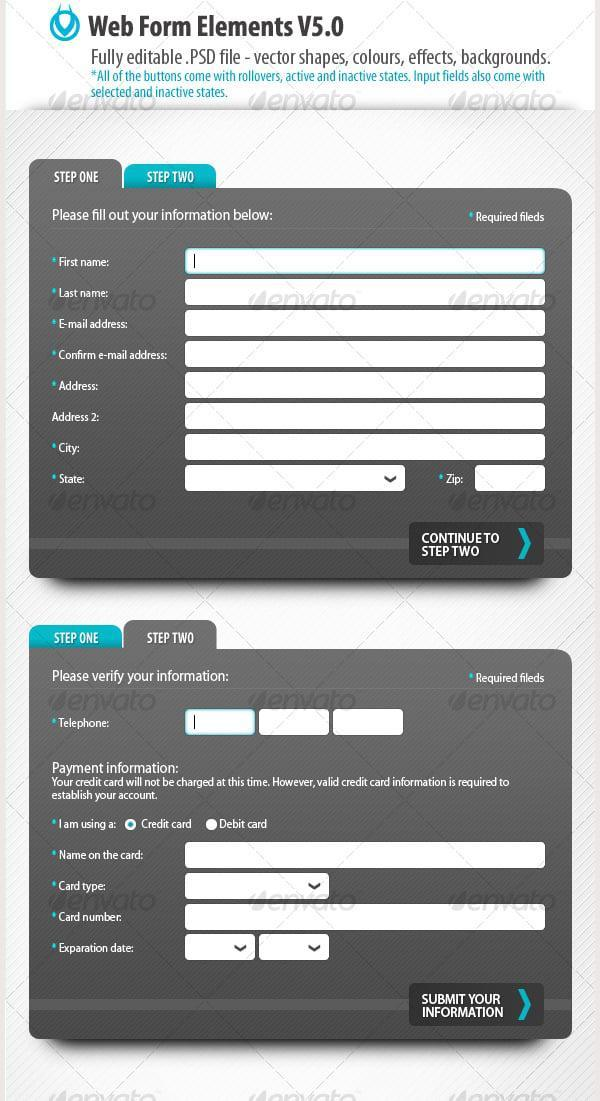button: (410, 525, 544, 569), (412, 985, 545, 1027), (33, 159, 123, 190), (125, 622, 218, 650), (126, 164, 217, 192), (31, 625, 123, 650)
dropdown: (185, 466, 405, 493), (186, 874, 329, 899), (260, 935, 332, 961), (187, 936, 257, 960)
input: (186, 248, 547, 278), (187, 309, 545, 337), (185, 843, 546, 870), (187, 434, 545, 461), (185, 373, 546, 399), (185, 905, 545, 931), (185, 281, 546, 306), (186, 404, 546, 429), (187, 343, 546, 367), (261, 708, 332, 737), (187, 708, 257, 736), (334, 709, 404, 737), (476, 464, 543, 493)
label: (47, 346, 177, 367), (52, 761, 184, 777), (45, 938, 144, 959), (51, 316, 135, 338), (48, 848, 150, 865), (48, 282, 115, 306), (47, 253, 116, 274), (47, 813, 123, 832), (45, 910, 128, 926), (43, 878, 114, 896), (50, 405, 104, 426), (47, 377, 105, 396), (50, 716, 114, 733), (48, 466, 90, 490), (437, 467, 469, 492), (45, 438, 85, 457), (219, 818, 272, 832), (142, 820, 193, 834)
radio: (206, 818, 220, 832), (125, 819, 138, 832)
